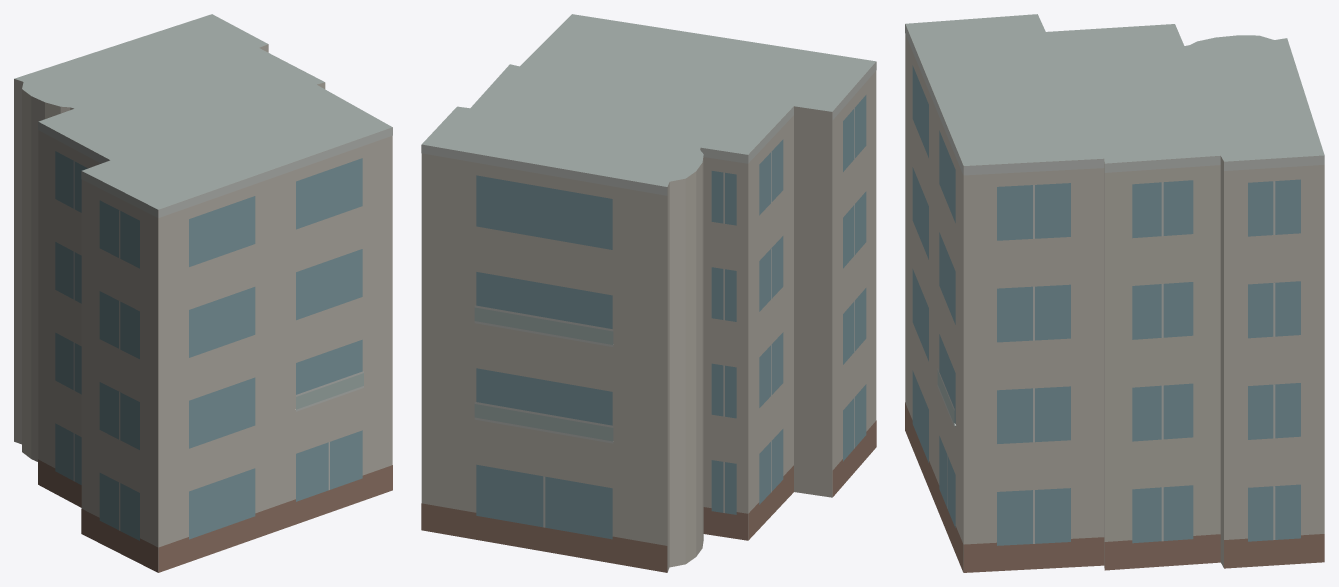
File: survey-upis-32895971.glb
3 renders of one model, left to right at view 1: azimuth 30°, elevation 25°; view 2: azimuth 150°, elevation 25°; view 3: azimuth 270°, elevation 25°, orthographic. The views are drawn at different scales.
Parts seen in each view (by area): view 1: survey-upis-32895971.tmp; view 2: survey-upis-32895971.tmp; view 3: survey-upis-32895971.tmp.
Boxes of the visible parts, x1,y1,x2,y2 form: survey-upis-32895971.tmp: (14, 14, 392, 572); survey-upis-32895971.tmp: (421, 14, 876, 572); survey-upis-32895971.tmp: (905, 14, 1324, 572).
Bounding box in the file's own units: 8.51 × 10.6 × 9.92.
